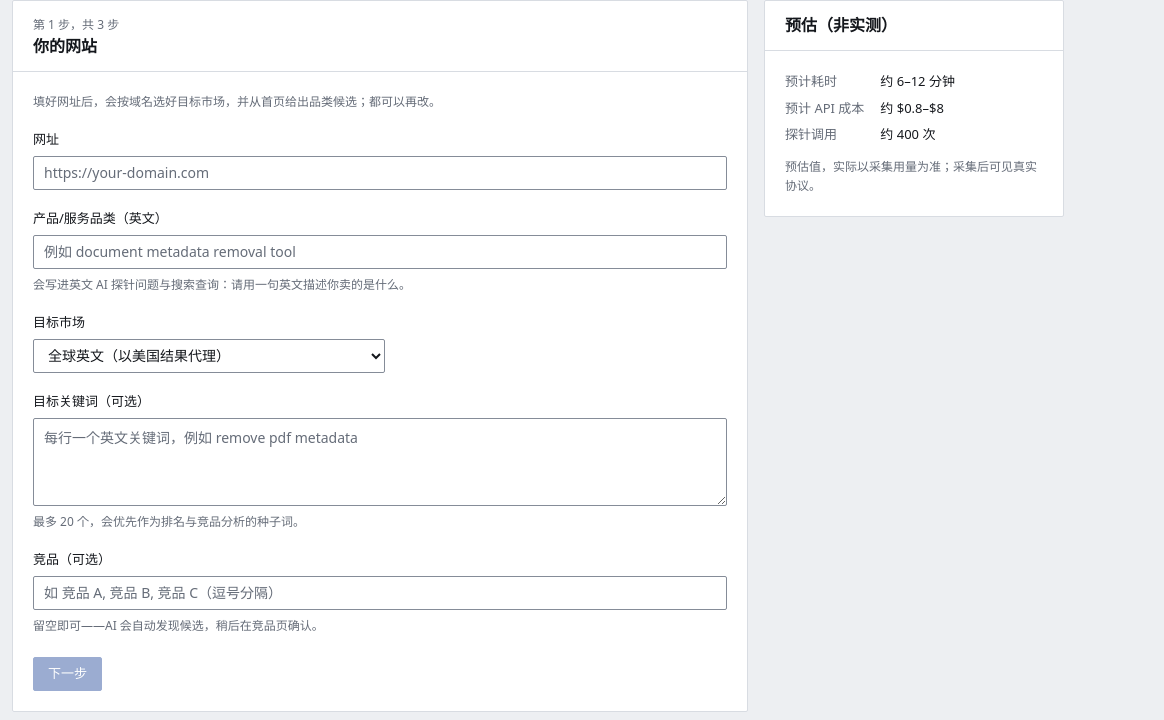
Test: NewAnalysisForm 第 2 步数据连接三态 › GSC 已授权且已选择资源时显示「已连接」而非连接按钮
The image size is (1164, 720).
Step 1. Type "https://example.com" into the field labelled "网址" → (380, 173), box [33,156,727,190]
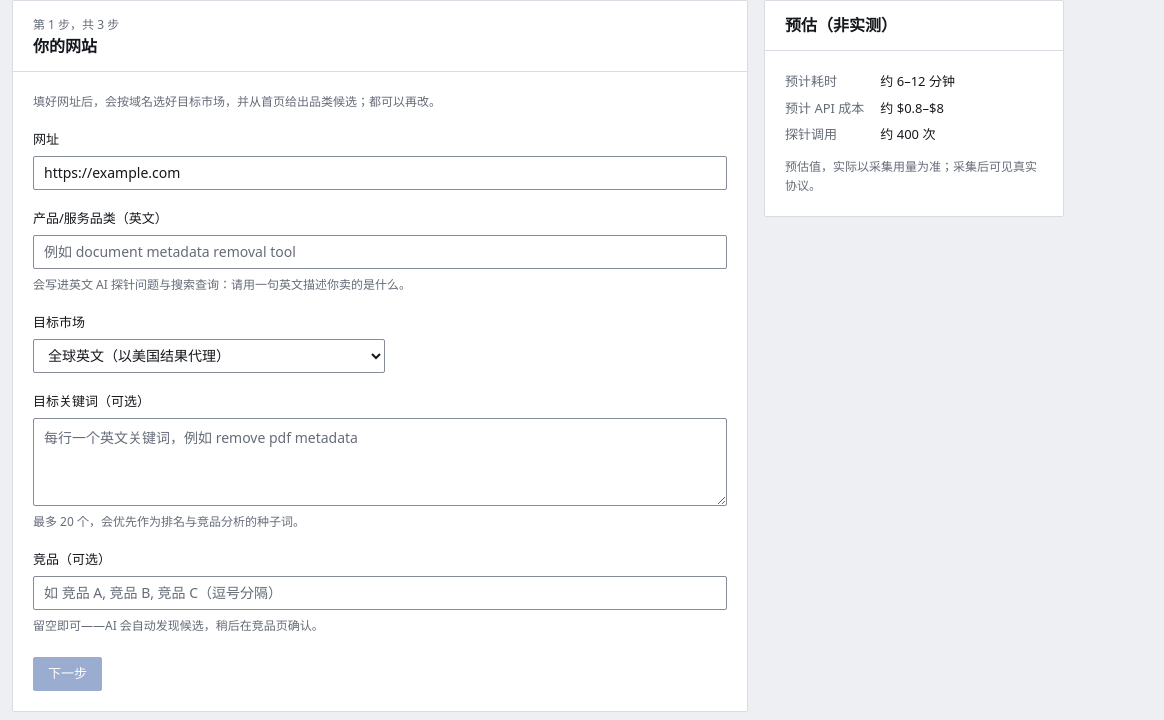
Step 2. Type "saas tool" into the field labelled "产品/服务品类（英文）" → (380, 252), box [33,235,727,269]
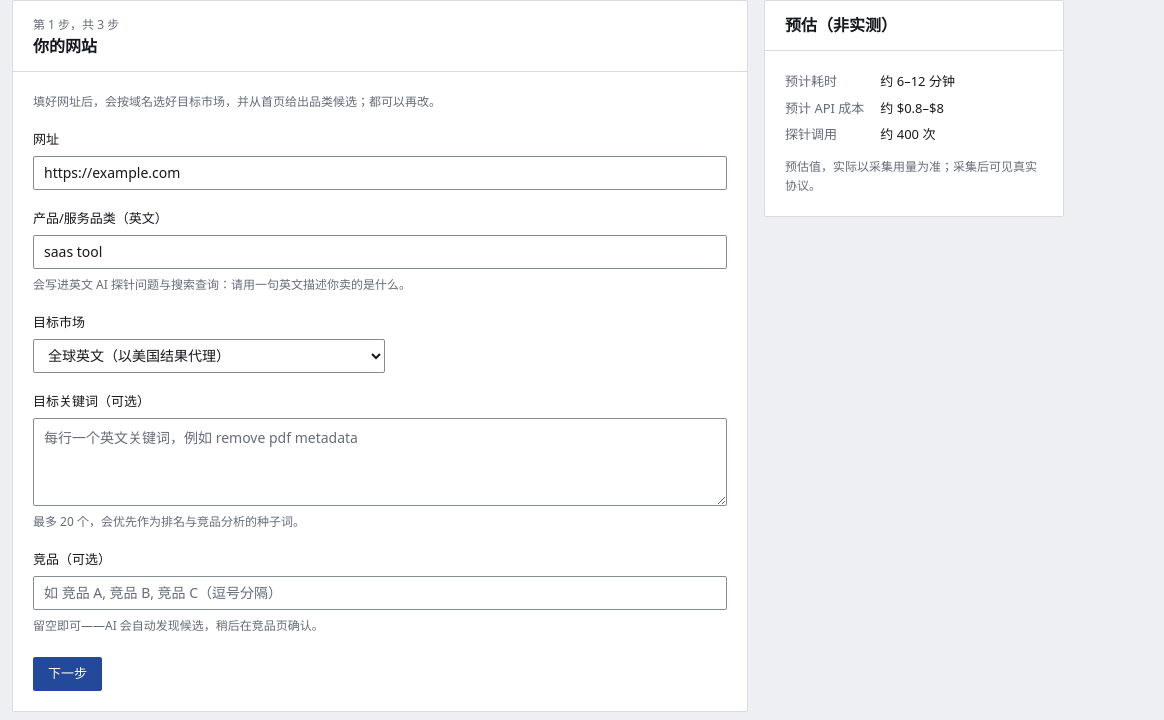
Step 3. Click the button "下一步" → (68, 674), box [33,657,102,691]
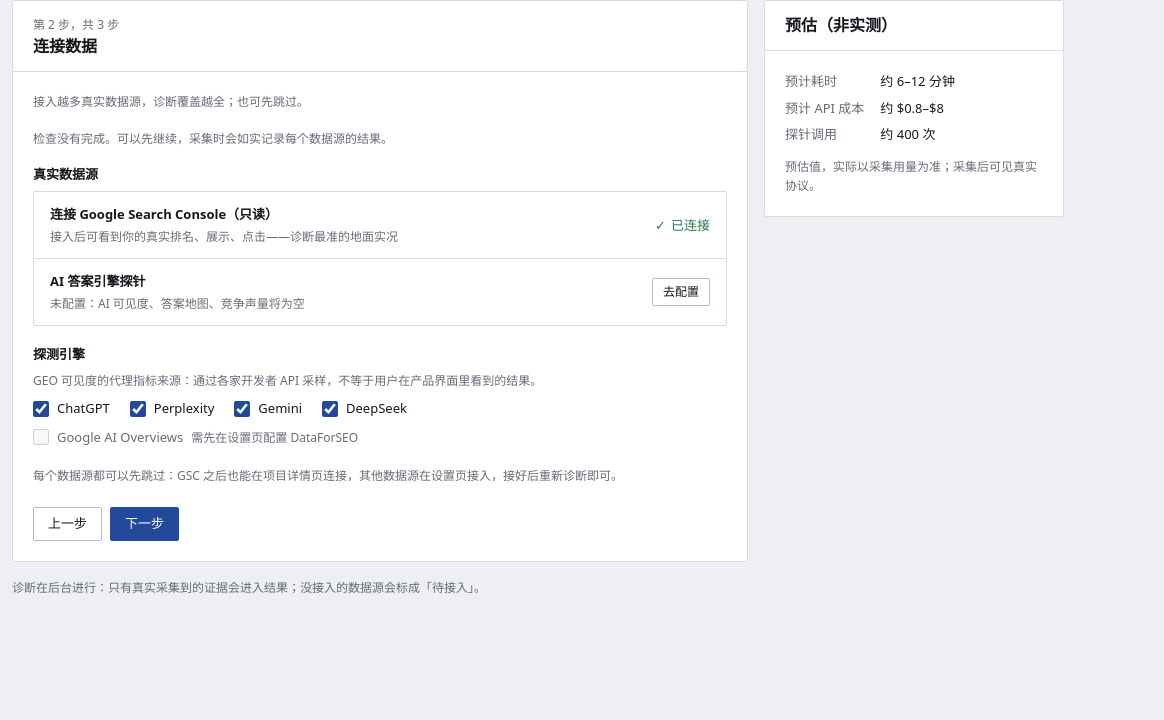
Now the text "已连接" is shown, box [655,215,710,236]
